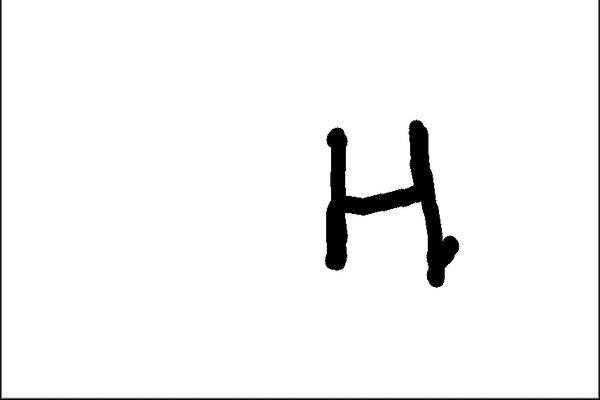H: (313, 114, 460, 291)
